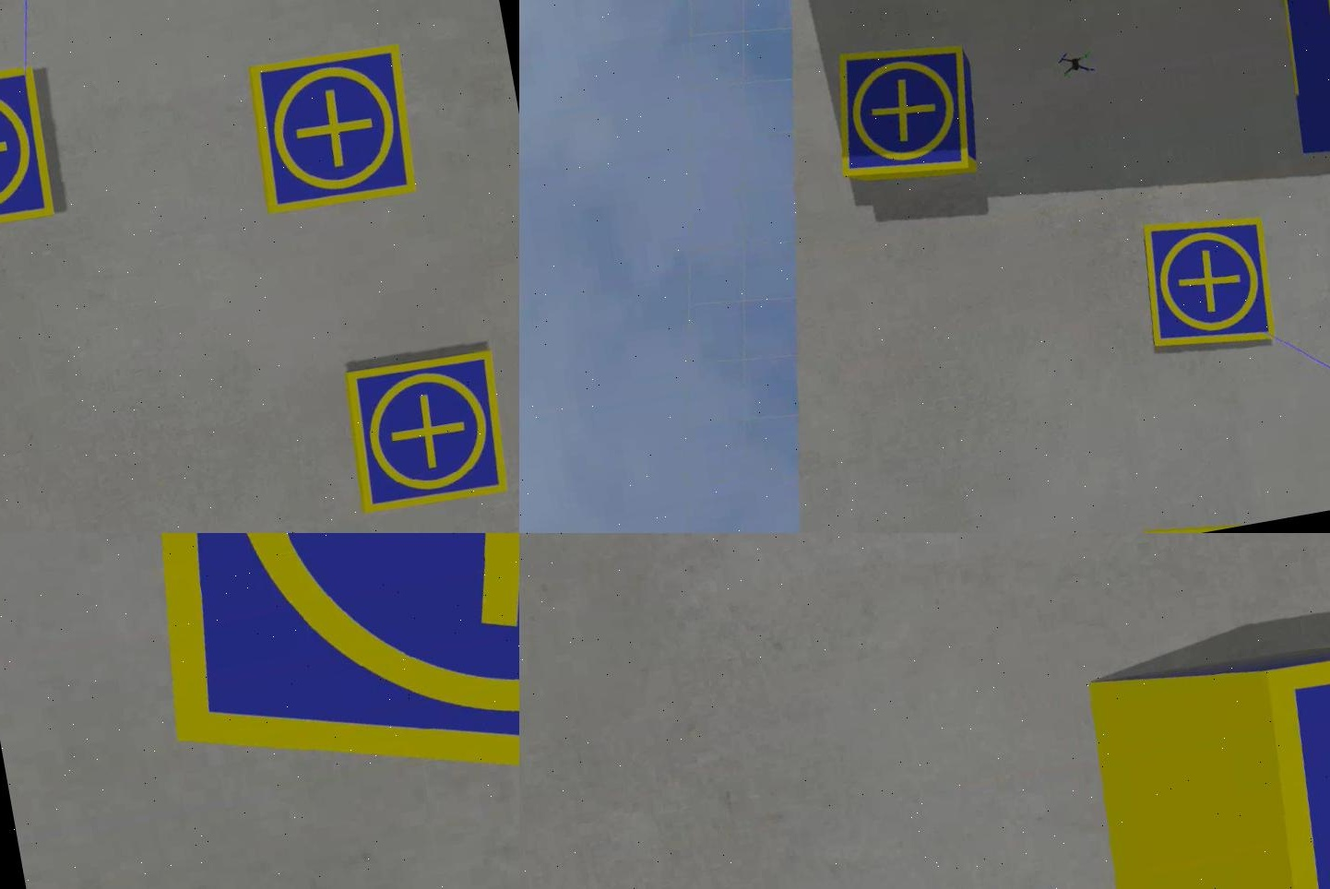small_base: (79, 534, 517, 889), (238, 39, 421, 220), (340, 343, 517, 516), (822, 33, 985, 192), (1130, 204, 1284, 360), (1243, 646, 1328, 889), (0, 63, 60, 242)
